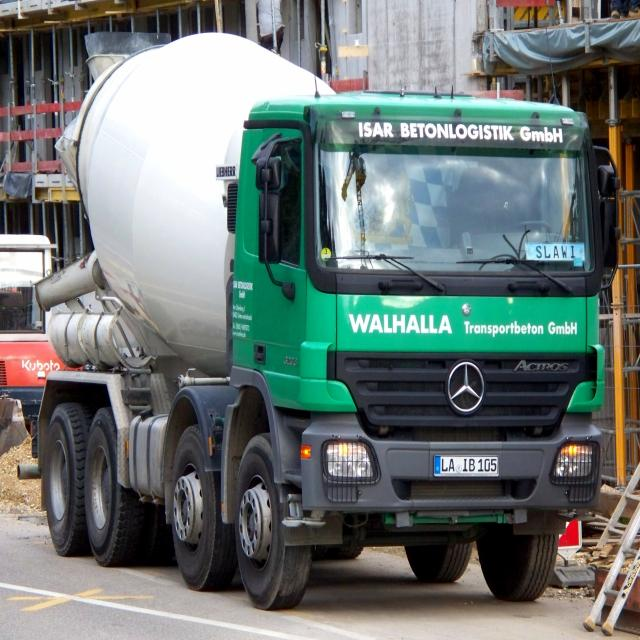Mixer Truck: (17, 33, 619, 612)
